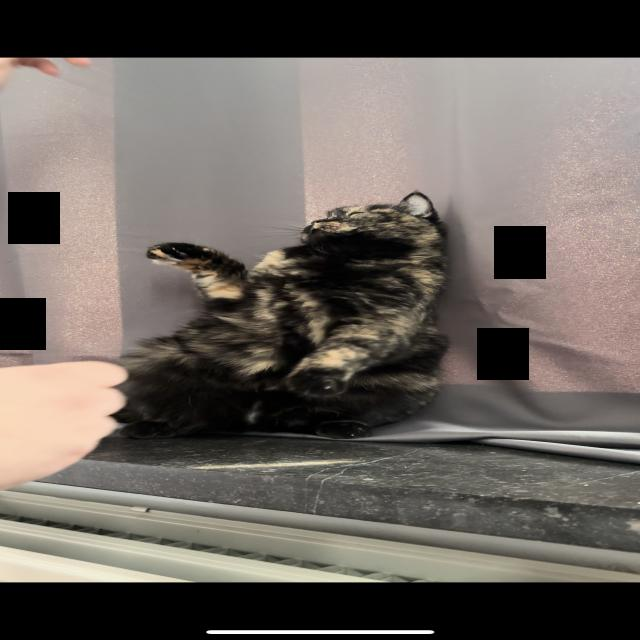authorized: (107, 190, 450, 440)
